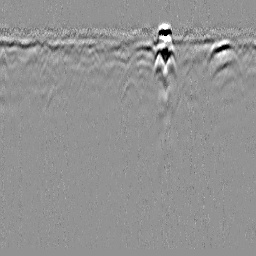cavity: (120, 78, 142, 103)
